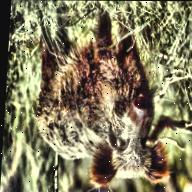boar: (18, 5, 191, 192)
